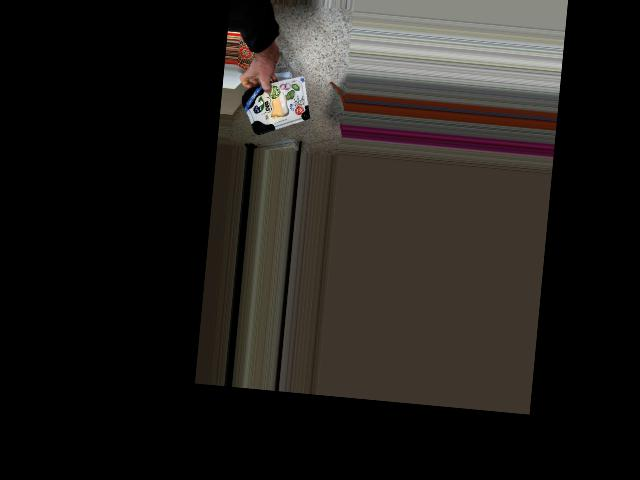cheese: (236, 81, 312, 134)
